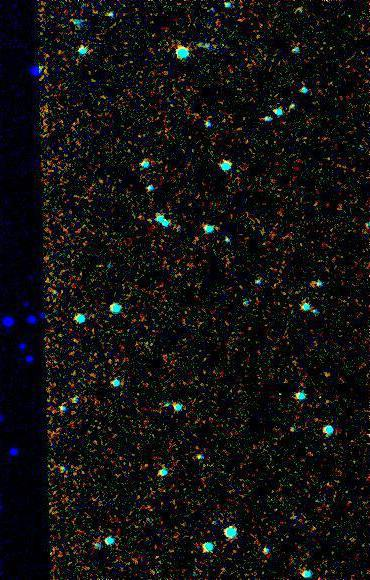star: (291, 266, 321, 296)
